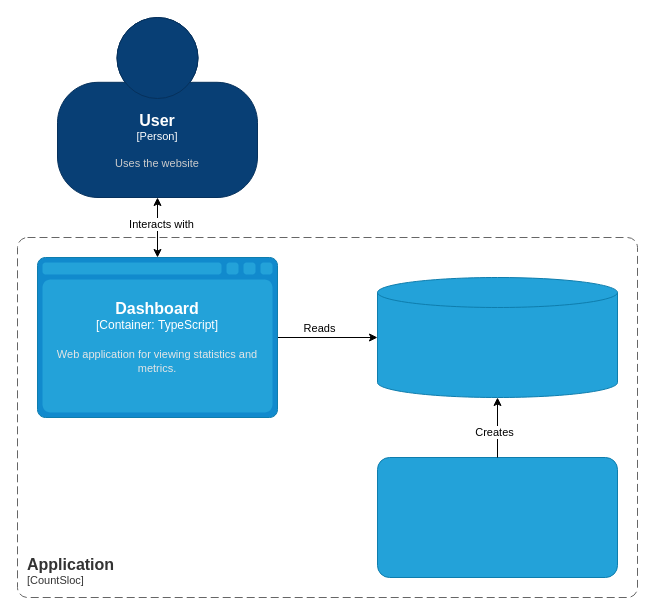
Some shapes in this 655 by 615 pixel diagram are drawn without their labels. The box of each missing label's shape, as (x1, y1, x2, y2) in pixels:
Data File [Container: JSON] File containing the data to be scanned.: (376, 276, 618, 398)
Scanner [Container: Python]: (376, 456, 618, 578)
